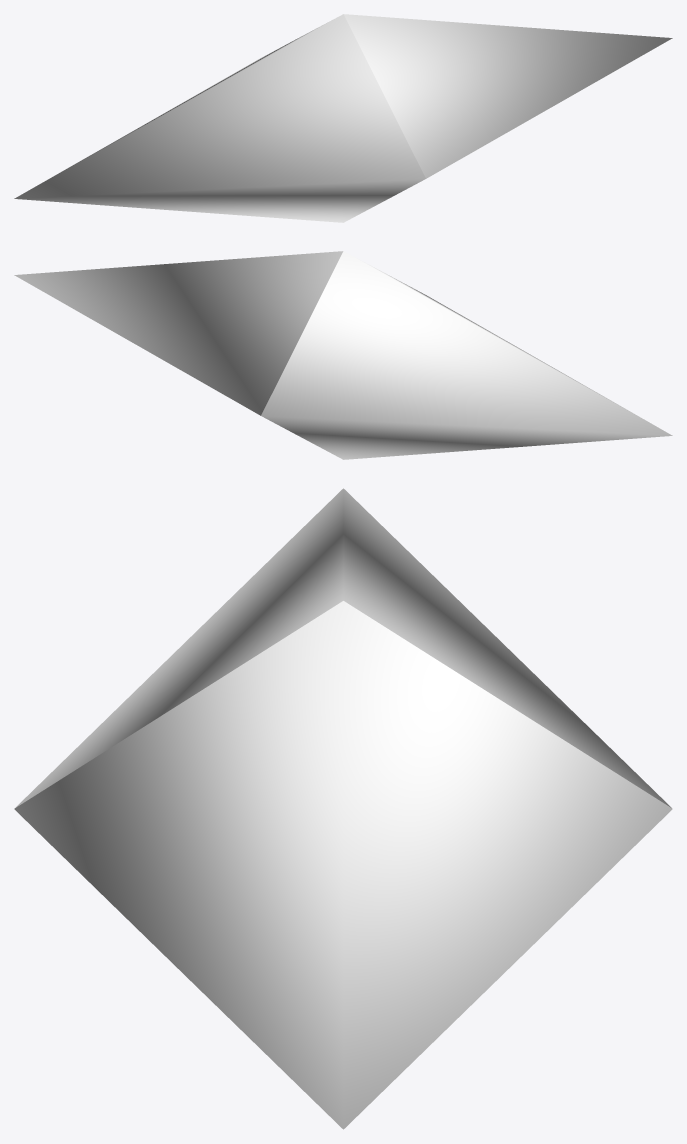
File: iceShard.fbx
The picture shows the model from 3 angles, top to bottom: view 1: azimuth 30°, elevation 25°; view 2: azimuth 150°, elevation 25°; view 3: azimuth 270°, elevation 25°; orthographic projection. The views are drawn at different scales.
Visible parts, largest first — view 1: pCube1; view 2: pCube1; view 3: pCube1.
Part boxes in pixels (<box>): pCube1: <box>14,14,672,222</box>; pCube1: <box>14,251,672,459</box>; pCube1: <box>14,488,672,1129</box>.
Bounding box in the file's own units: 8.67 × 2.63 × 3.77.
1 material, 1 textured.
